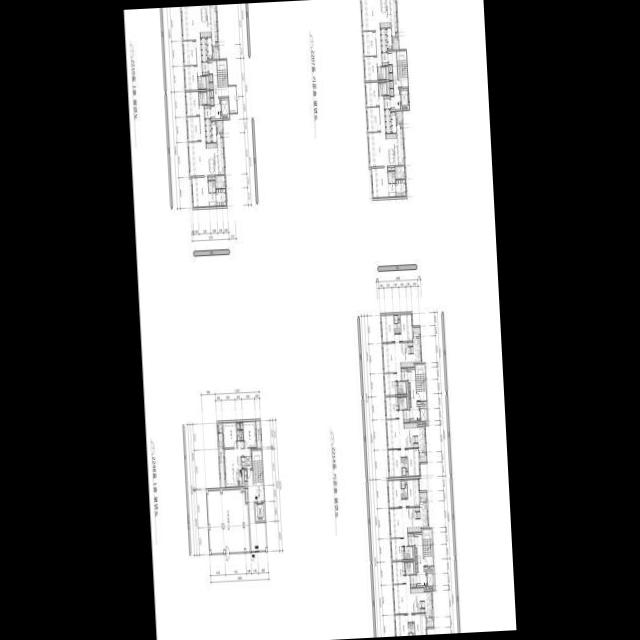background: (123, 0, 517, 640)
space_balconi: (218, 434, 225, 488), (256, 421, 261, 448)
space_bedroom: (371, 168, 389, 199), (192, 177, 209, 208), (405, 449, 420, 477), (381, 314, 395, 343), (399, 313, 413, 342), (388, 450, 402, 478), (388, 479, 401, 508), (406, 478, 419, 507), (222, 423, 237, 448), (365, 82, 379, 107), (366, 107, 380, 132), (362, 31, 376, 56), (243, 422, 256, 448), (185, 92, 199, 116), (184, 66, 198, 90), (364, 56, 377, 81), (187, 117, 200, 142), (183, 41, 196, 66), (384, 373, 397, 396), (391, 538, 404, 561), (412, 614, 426, 635), (392, 562, 405, 584), (385, 397, 398, 419), (395, 615, 408, 636)
space_dressroom: (216, 189, 226, 207), (396, 180, 406, 197)
space_elevator: (220, 98, 229, 119), (400, 89, 409, 109), (255, 503, 265, 521), (419, 406, 428, 425), (426, 571, 434, 590)
space_elevator_hall: (208, 61, 237, 119), (247, 471, 266, 551), (408, 370, 426, 421), (415, 535, 433, 586), (388, 52, 400, 110)
space_front: (200, 38, 207, 62), (384, 110, 391, 133), (380, 29, 387, 52), (205, 119, 211, 143), (246, 448, 252, 469), (381, 53, 388, 66), (403, 410, 410, 423), (384, 96, 390, 109), (202, 62, 208, 75), (410, 575, 416, 588), (401, 369, 407, 381), (408, 534, 414, 546), (204, 106, 210, 118)
space_kitchen: (385, 124, 405, 166), (198, 5, 218, 46), (206, 133, 225, 175), (378, 0, 398, 37), (410, 587, 433, 617), (403, 422, 426, 452), (406, 502, 428, 533), (399, 337, 421, 368), (232, 457, 242, 486), (390, 112, 396, 133), (386, 28, 392, 49), (206, 38, 212, 59), (211, 122, 216, 142)
space_living_room: (181, 6, 202, 76), (368, 96, 387, 168), (188, 106, 207, 177), (361, 0, 381, 66), (224, 442, 250, 487), (386, 411, 405, 457), (393, 576, 412, 622), (389, 500, 408, 546), (382, 335, 401, 381)
space_other: (207, 489, 250, 553), (215, 176, 226, 188), (395, 166, 405, 179), (236, 423, 243, 440), (241, 458, 246, 469), (217, 423, 222, 433), (207, 91, 210, 104), (386, 67, 389, 80), (245, 489, 248, 502), (206, 76, 209, 89), (242, 470, 244, 487), (244, 471, 247, 481), (389, 73, 393, 80), (388, 167, 395, 171), (209, 83, 213, 90), (414, 561, 416, 575), (424, 567, 433, 570), (417, 402, 426, 405), (406, 381, 408, 394), (387, 82, 389, 95), (413, 546, 415, 559), (407, 396, 409, 409), (210, 99, 214, 105), (390, 89, 393, 96), (389, 65, 392, 72), (390, 81, 393, 88), (210, 91, 213, 98), (209, 75, 212, 82), (208, 177, 215, 180), (420, 609, 425, 613), (408, 342, 413, 346), (413, 444, 418, 448), (408, 383, 410, 391), (416, 565, 418, 572), (409, 400, 411, 407), (415, 549, 417, 556), (245, 482, 247, 488), (220, 133, 223, 137), (415, 508, 419, 511), (405, 479, 407, 484), (398, 314, 400, 319), (400, 124, 403, 127), (406, 473, 408, 477), (409, 392, 410, 399), (416, 557, 417, 564), (425, 586, 426, 590), (418, 421, 419, 425)
space_outdoor_room: (216, 120, 223, 133), (212, 47, 219, 59), (419, 492, 427, 502), (392, 38, 398, 50), (396, 111, 402, 123), (426, 618, 433, 627), (419, 453, 426, 462), (413, 327, 420, 336)
space_staircase: (397, 51, 408, 87), (252, 450, 263, 485), (422, 530, 433, 557), (415, 365, 426, 392), (217, 60, 227, 87)
space_toilet: (377, 67, 386, 80), (405, 562, 414, 575), (198, 92, 207, 105), (398, 397, 407, 410), (378, 83, 387, 95), (404, 547, 413, 559), (389, 184, 396, 198), (209, 193, 216, 207), (198, 77, 206, 89), (398, 382, 406, 394), (401, 458, 408, 471), (394, 320, 400, 334), (401, 485, 407, 499), (408, 623, 414, 636), (391, 171, 395, 183), (208, 181, 212, 193), (388, 172, 392, 183), (212, 181, 215, 193), (401, 481, 405, 489), (394, 316, 398, 324), (402, 468, 406, 475), (409, 633, 412, 636)
